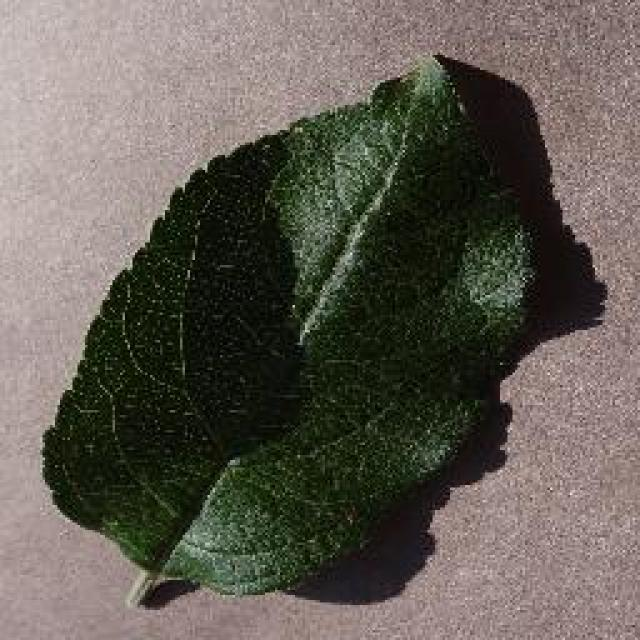apple healthy: (38, 50, 542, 608)
